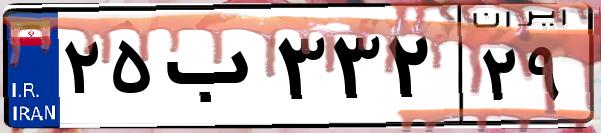2: (385, 28, 445, 110), (57, 26, 110, 100), (475, 38, 525, 113)
3: (270, 28, 330, 110), (330, 28, 385, 110)
5: (110, 28, 158, 98)
9: (525, 38, 570, 115)
ب: (158, 20, 270, 120)
